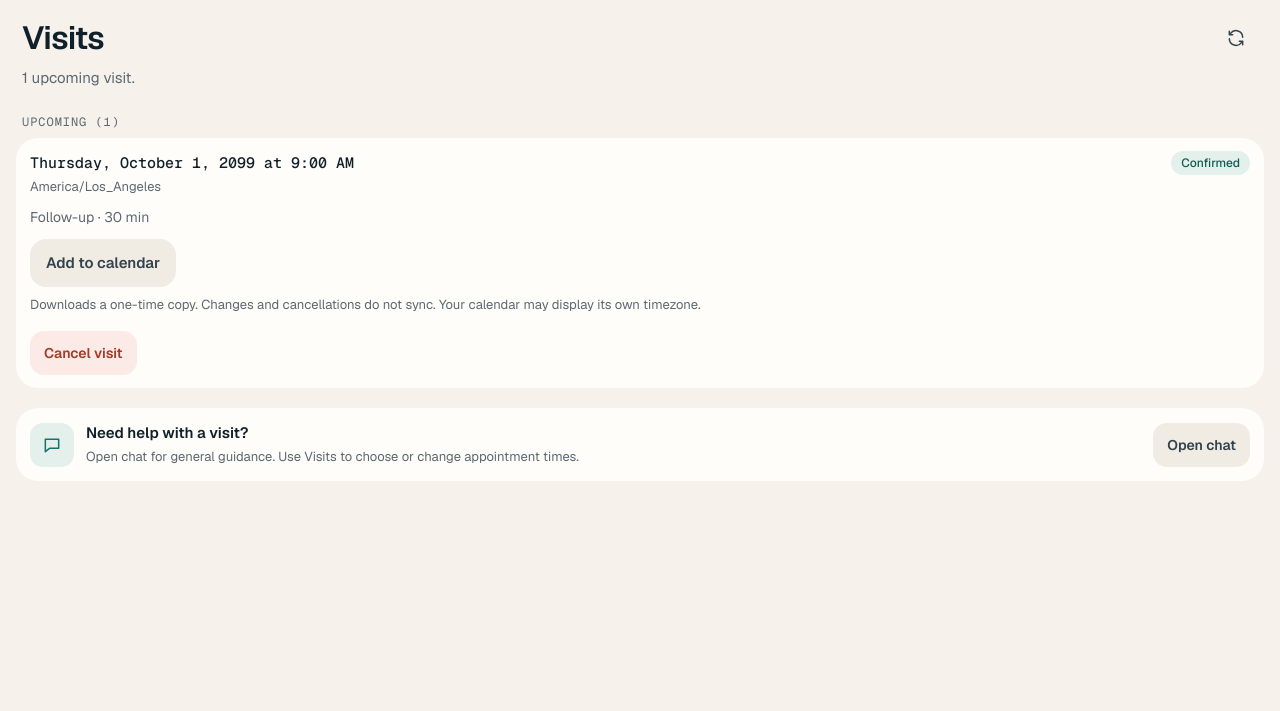
Test: Visits recovery with the real data hook › retries a failed cancellation with the original note
Click the button "Cancel visit": x=83, y=353 [30,331,137,375]
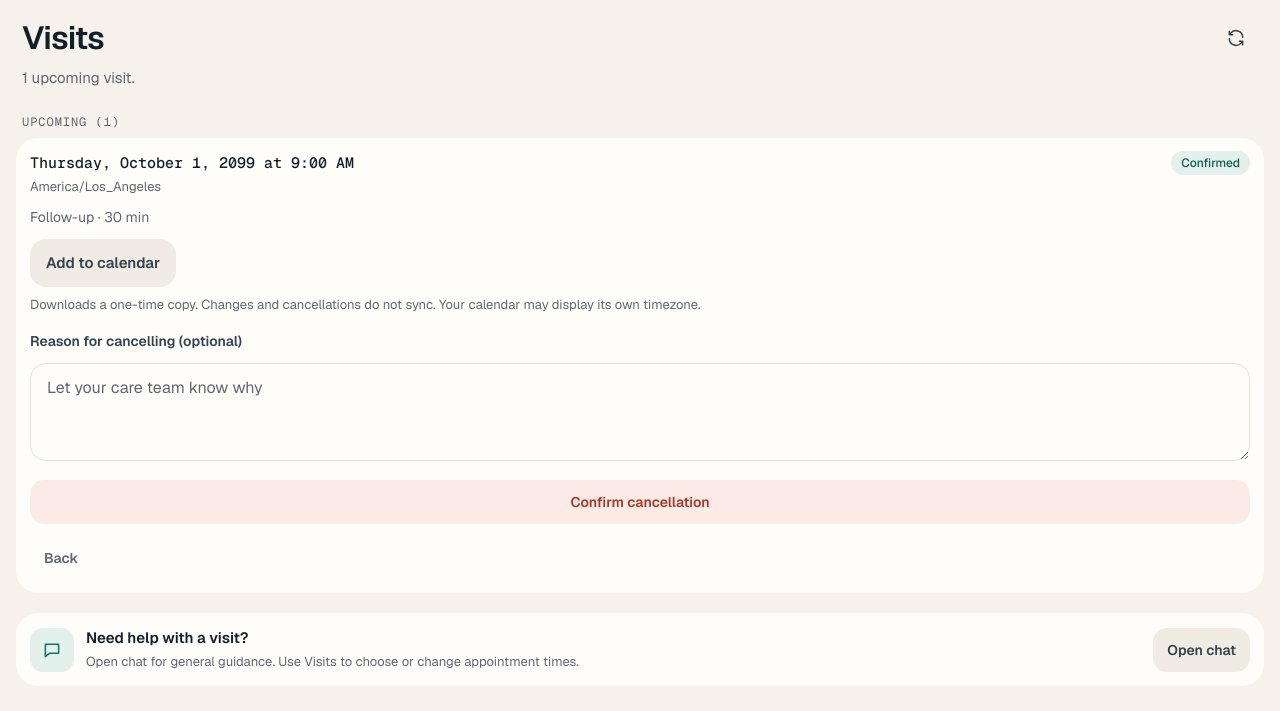
In the text box: x=640, y=412 [30,363,1250,461], type "Synthetic note: transport unavailable"
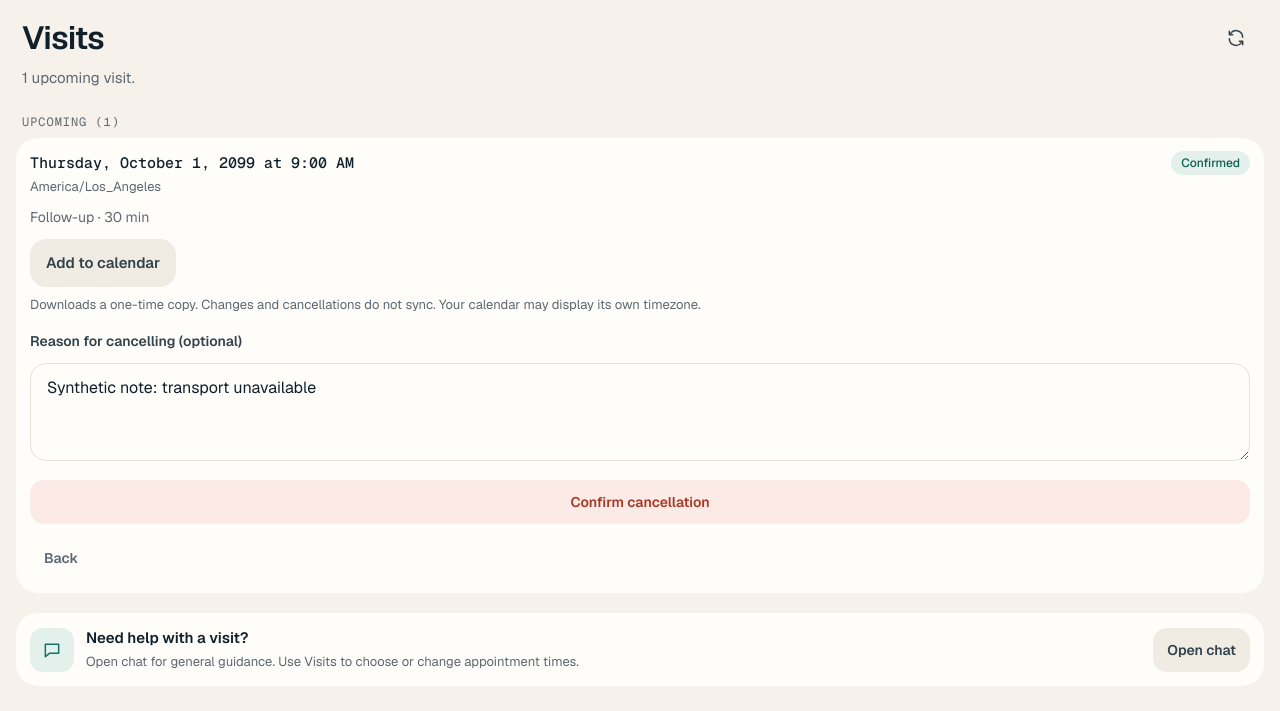
Click the button "Confirm cancellation": x=640, y=502 [30,480,1250,524]
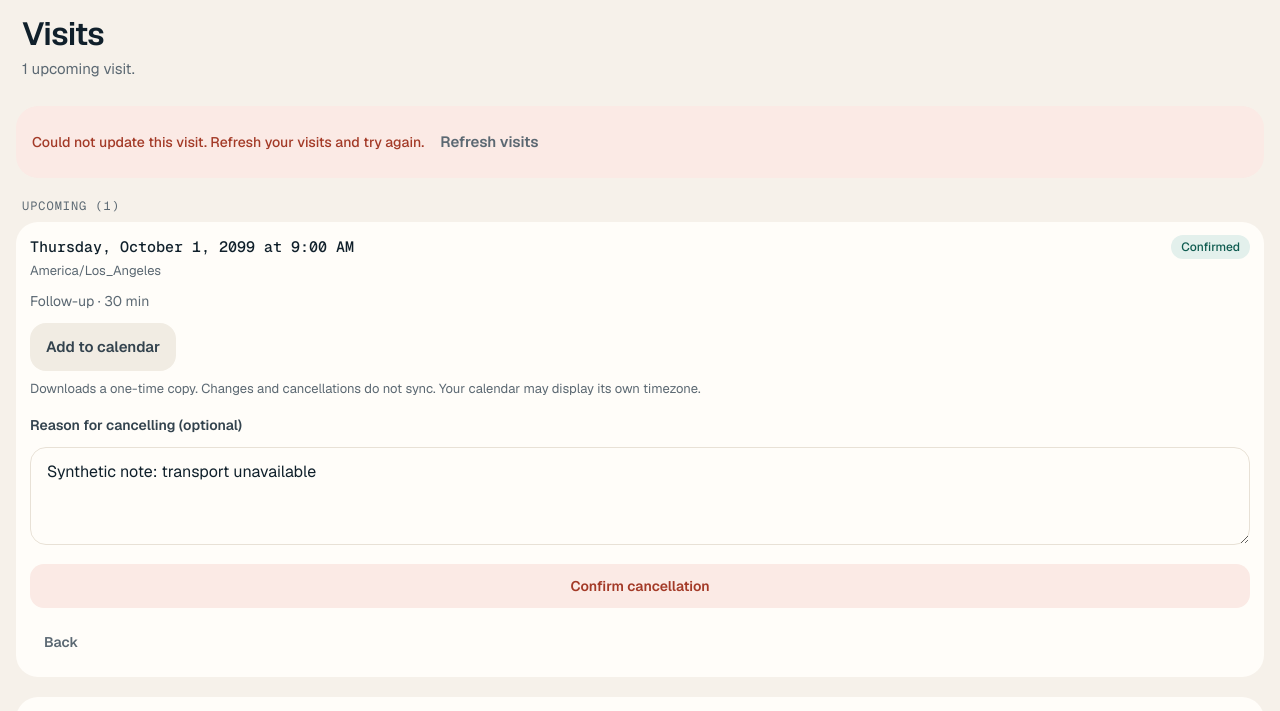
Check: the message "Could not update this visit. Refresh your visits and try again. Refresh visits" is shown, box [16,106,1264,178]
Click the button "Confirm cancellation": x=640, y=586 [30,564,1250,608]
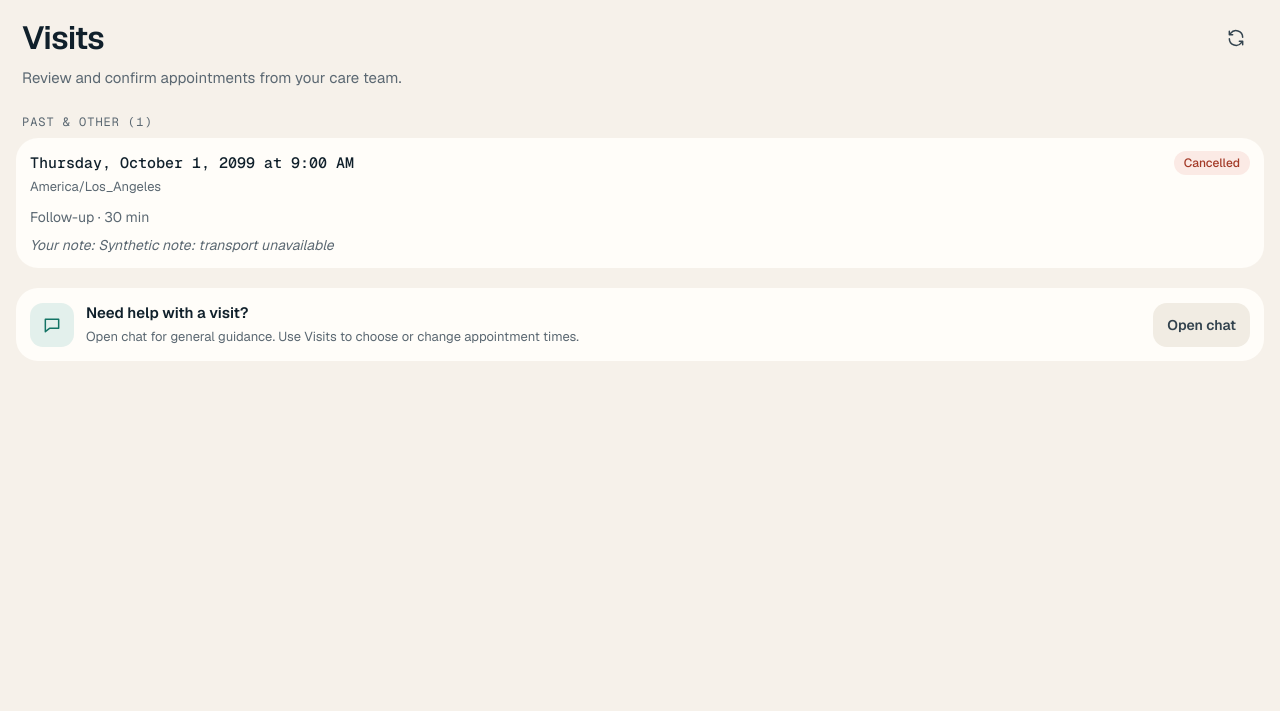
Check: the text "Cancelled" is shown, box [1174,151,1250,175]
Check: the message "Could not update this visit. Refresh your visits and try again. Refresh visits" is gone
